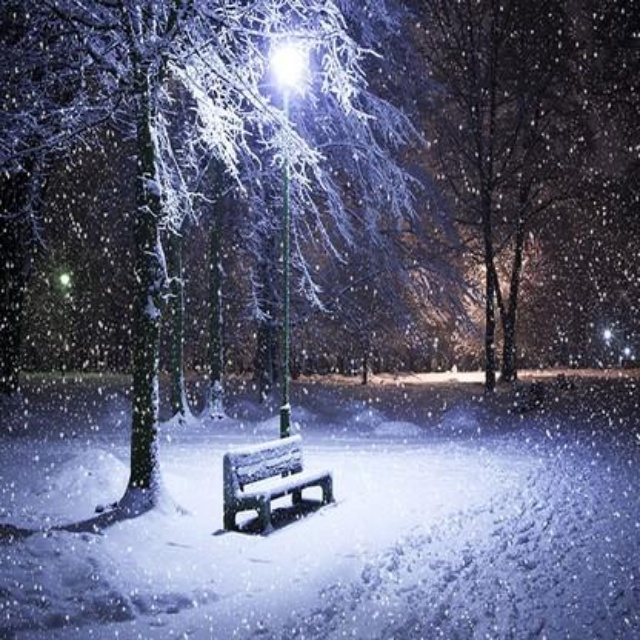obstacle: (203, 411, 329, 535)
